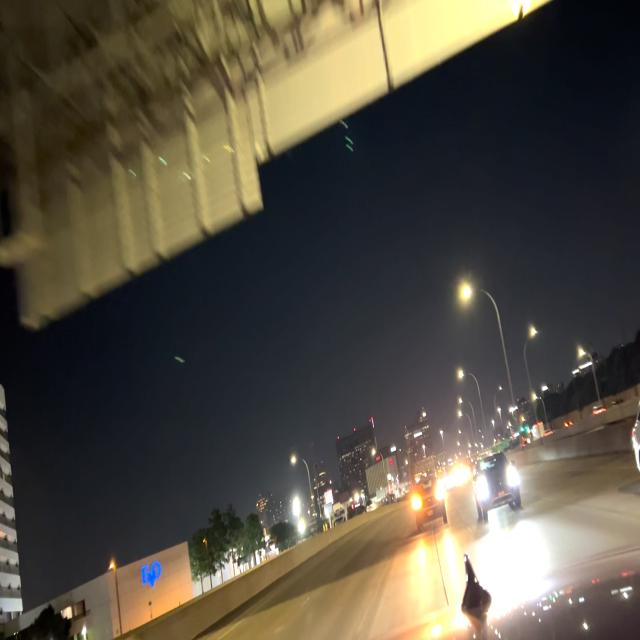back-of-sign: (1, 0, 378, 333)
